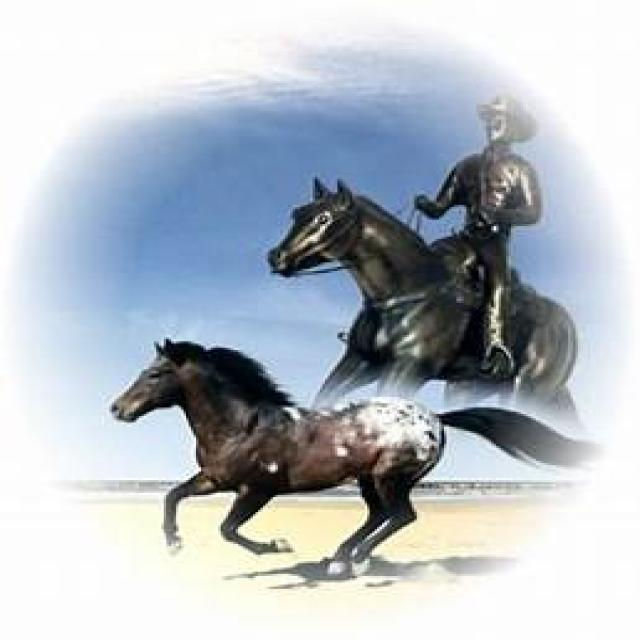horse: (112, 341, 503, 573)
